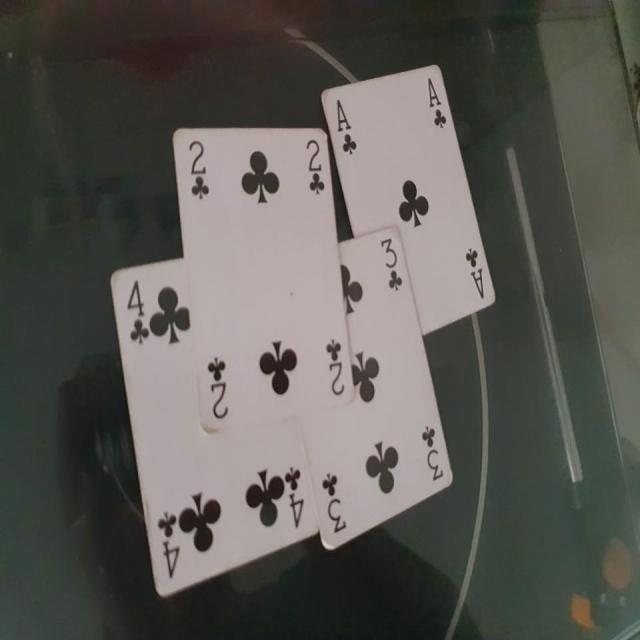2 Trefoils: (170, 127, 354, 432)
3 Trefoils: (298, 226, 455, 548)
4 Trefoils: (107, 255, 323, 598)
A Trefoils: (320, 61, 497, 330)
